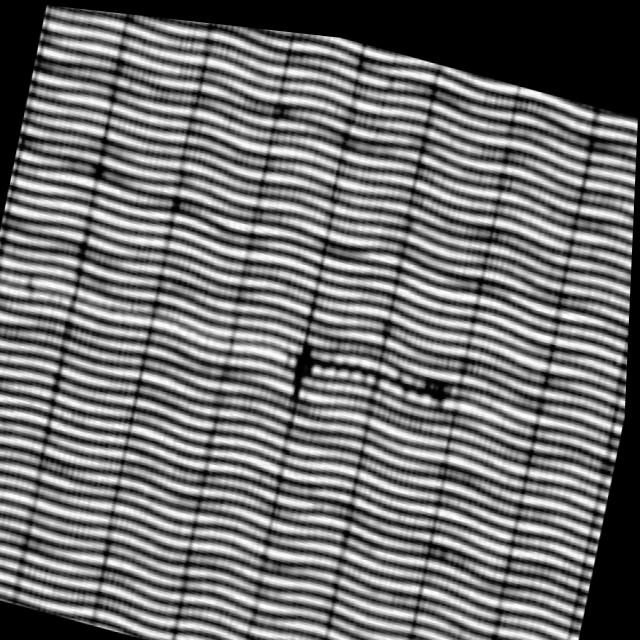Stitch: (269, 306, 477, 451)
